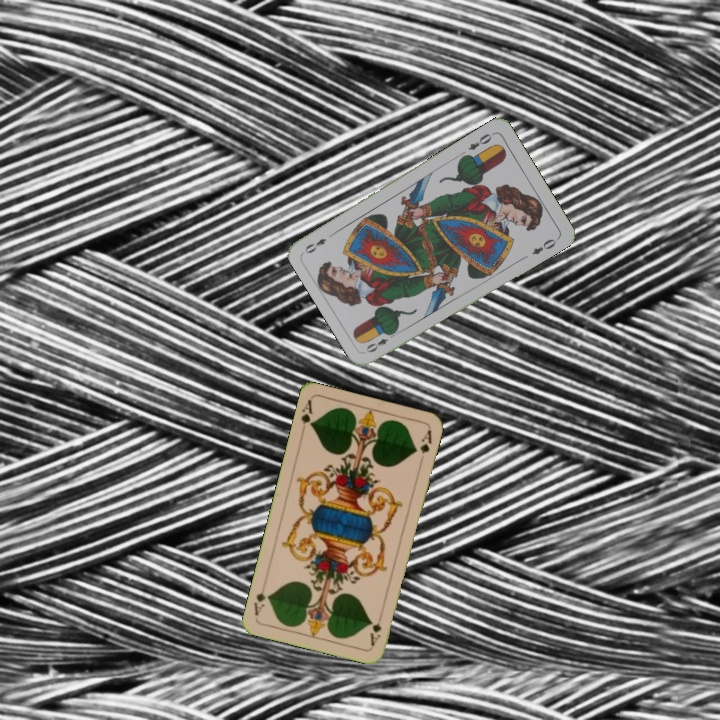EO: (362, 328, 399, 355), (464, 128, 497, 153)
GA: (297, 396, 316, 429), (366, 618, 384, 648)
